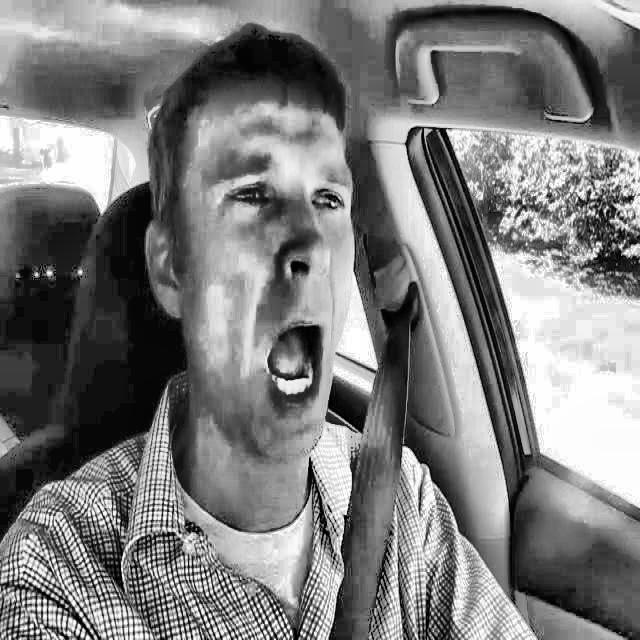open_eyes: (209, 165, 284, 217), (300, 173, 354, 221)
open_mouth: (246, 309, 346, 434)
